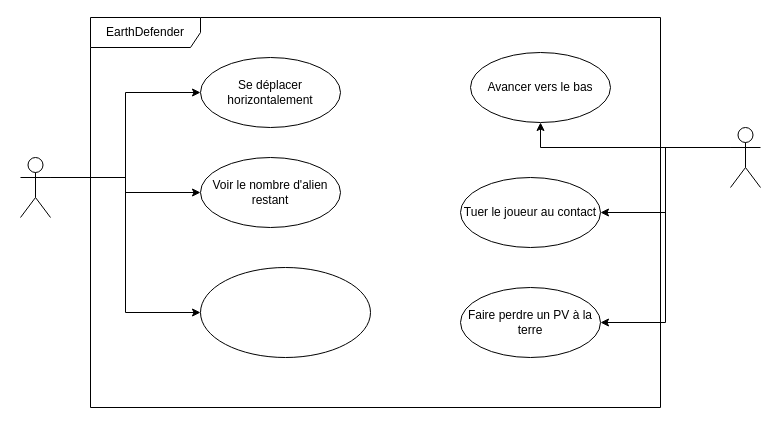
Some shapes in this 778 by 425 pixel diagram are drawn without their labels. The box of each missing label's shape, as (x1, y1, x2, y2) in pixels:
Alien: (730, 126, 760, 188)
Joueur: (20, 156, 50, 218)
Tirer un laser mortel pour les aliens: (200, 266, 370, 358)
